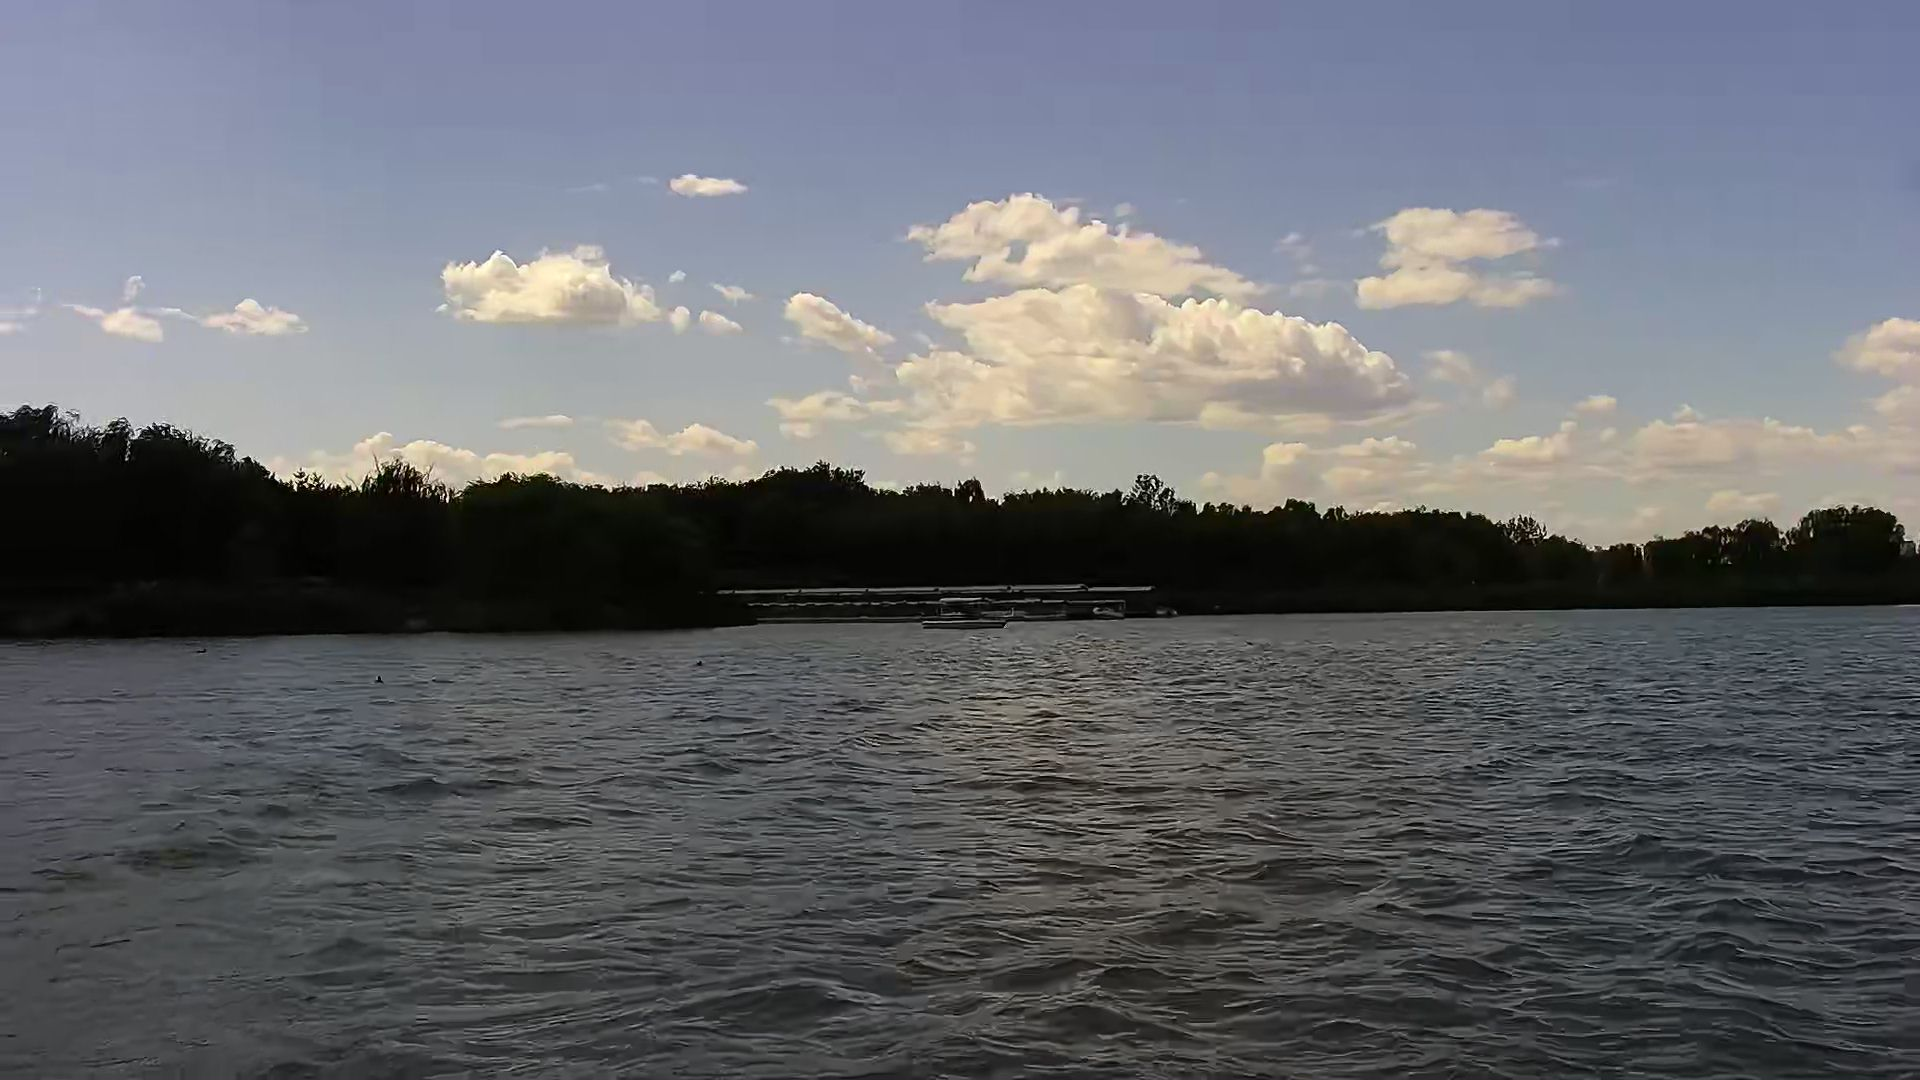boat: (923, 593, 1007, 636)
harbor: (713, 579, 1171, 622)
